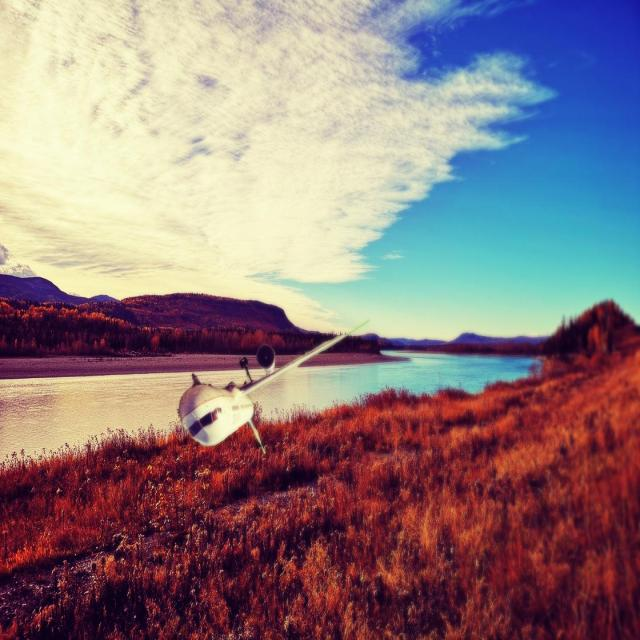airplane: (177, 318, 370, 455)
